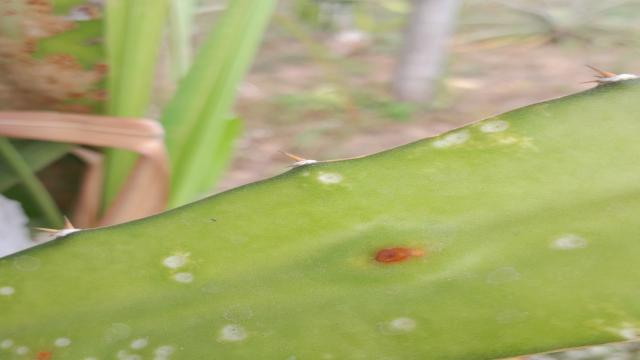stemcanker: (0, 271, 179, 360), (353, 218, 431, 284), (419, 116, 525, 155), (538, 213, 608, 265), (155, 231, 204, 296), (382, 301, 436, 344), (210, 311, 260, 352), (315, 166, 353, 194)
